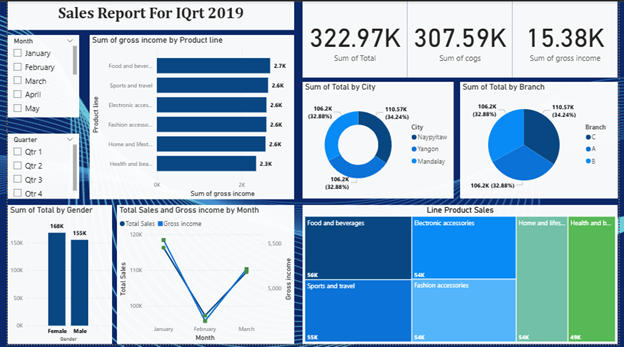

The page's visual inventory and layout, read from the dashboard file:
{"tool":"powerbi","page":{"name":"Page 1","canvas":[1280,720],"ordinal":0},"visuals":[{"type":"card","fields":{"Values":["Sum(supermarket_sales - Sheet1.gross income)"]},"box":[1059.4,0,220.4,160.2],"z":0},{"type":"card","fields":{"Values":["Sum(supermarket_sales - Sheet1.Total)"]},"box":[618.6,0,220.4,160.2],"z":1000},{"type":"card","fields":{"Values":["Sum(supermarket_sales - Sheet1.cogs)"]},"box":[839,0,220.4,160.2],"z":2000},{"type":"pieChart","fields":{"Category":["supermarket_sales - Sheet1.Branch"],"Y":["Sum(supermarket_sales - Sheet1.Total)"]},"box":[949.2,169,330.6,245.4],"z":3000},{"type":"donutChart","fields":{"Category":["supermarket_sales - Sheet1.City"],"Y":["Sum(supermarket_sales - Sheet1.Total)"]},"box":[618.6,169,317.4,245.4],"z":4000},{"type":"treemap","title":"Line Product Sales","fields":{"Group":["supermarket_sales - Sheet1.Product line"],"Values":["Sum(supermarket_sales - Sheet1.Total)"]},"box":[618.6,427.6,661.2,292.4],"z":5000},{"type":"clusteredColumnChart","fields":{"Category":["supermarket_sales - Sheet1.Gender"],"Y":["Sum(supermarket_sales - Sheet1.Total)"]},"box":[0,427.6,218.9,292.4],"z":6000},{"type":"slicer","fields":{"Values":["supermarket_sales - Sheet1.Date.Variation.Date Hierarchy.Month"]},"box":[0,70.5,149.9,173.4],"z":7000},{"type":"lineChart","fields":{"Category":["supermarket_sales - Sheet1.Date.Variation.Date Hierarchy.Month"],"Y":["Sum(supermarket_sales - Sheet1.Total)"],"Y2":["Sum(supermarket_sales - Sheet1.gross income)"]},"box":[229.2,427.6,371.8,292.4],"z":8000},{"type":"clusteredBarChart","fields":{"Category":["supermarket_sales - Sheet1.Product line"],"Y":["Sum(supermarket_sales - Sheet1.gross income)"]},"box":[171.9,70.5,429.1,345.3],"z":9000},{"type":"textbox","box":[0,0,601,60.2],"z":10000},{"type":"slicer","fields":{"Values":["supermarket_sales - Sheet1.Date.Variation.Date Hierarchy.Quarter"]},"box":[0,277.7,149.9,136.7],"z":11000}]}

Visuals, with their boxes in screenshot pixels (x1, y1, x2, y2), scaled from the page's 1280x720 canvas onto the 624x347 screenshot:
card - Sum(supermarket_sales - Sheet1.gross income): region(516, 0, 623, 77)
card - Sum(supermarket_sales - Sheet1.Total): region(302, 0, 409, 77)
card - Sum(supermarket_sales - Sheet1.cogs): region(409, 0, 516, 77)
pieChart - supermarket_sales - Sheet1.Branch x Sum(supermarket_sales - Sheet1.Total): region(463, 81, 623, 200)
donutChart - supermarket_sales - Sheet1.City x Sum(supermarket_sales - Sheet1.Total): region(302, 81, 456, 200)
"Line Product Sales" treemap: region(302, 206, 623, 346)
clusteredColumnChart - supermarket_sales - Sheet1.Gender x Sum(supermarket_sales - Sheet1.Total): region(0, 206, 107, 346)
slicer - supermarket_sales - Sheet1.Date.Variation.Date Hierarchy.Month: region(0, 34, 73, 118)
lineChart - supermarket_sales - Sheet1.Date.Variation.Date Hierarchy.Month x Sum(supermarket_sales - Sheet1.Total): region(112, 206, 293, 346)
clusteredBarChart - supermarket_sales - Sheet1.Product line x Sum(supermarket_sales - Sheet1.gross income): region(84, 34, 293, 200)
textbox: region(0, 0, 293, 29)
slicer - supermarket_sales - Sheet1.Date.Variation.Date Hierarchy.Quarter: region(0, 134, 73, 200)
